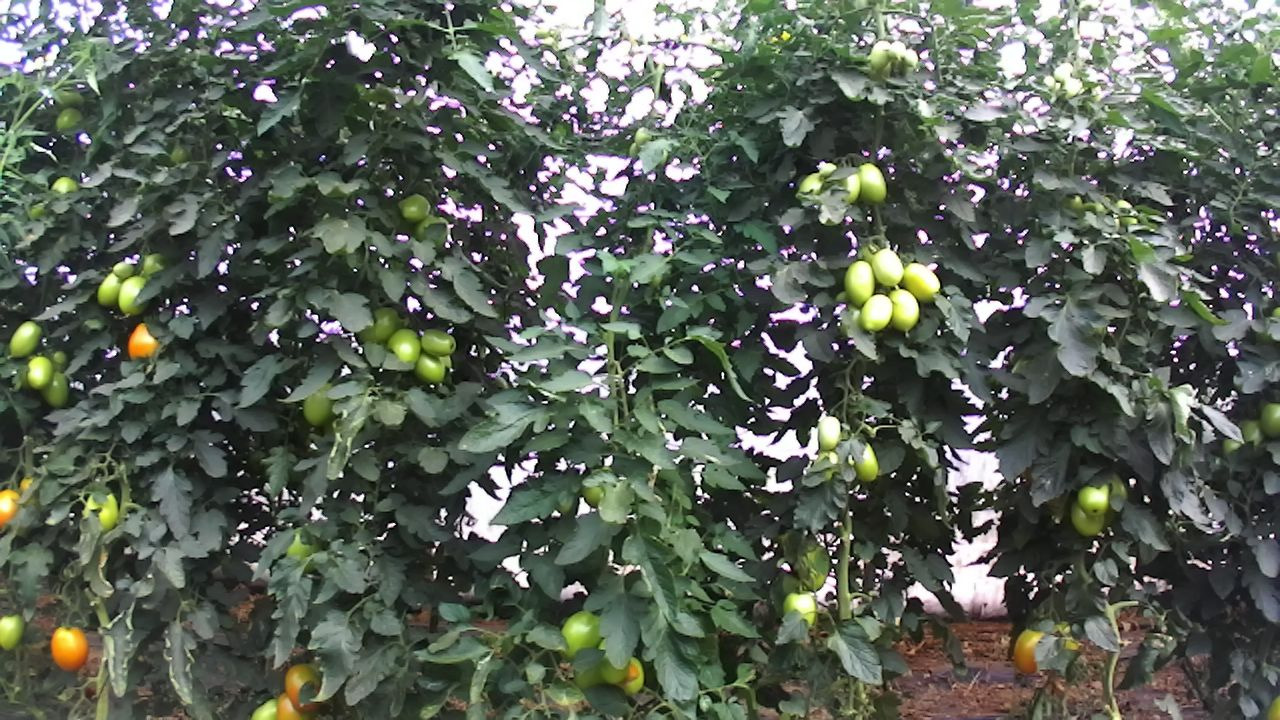tomato: (282, 659, 325, 714), (49, 623, 89, 673), (900, 259, 942, 306), (300, 379, 339, 429), (885, 286, 921, 334), (842, 259, 877, 308), (1013, 626, 1046, 675), (6, 318, 43, 361), (855, 161, 889, 207), (412, 347, 449, 387), (858, 292, 894, 333), (870, 246, 905, 288), (272, 687, 314, 720), (387, 326, 424, 362), (118, 274, 148, 318), (418, 324, 458, 356), (24, 354, 55, 392), (0, 611, 28, 652), (94, 270, 124, 308), (398, 192, 432, 224), (815, 415, 843, 451), (1258, 401, 1280, 440), (111, 259, 136, 281)
